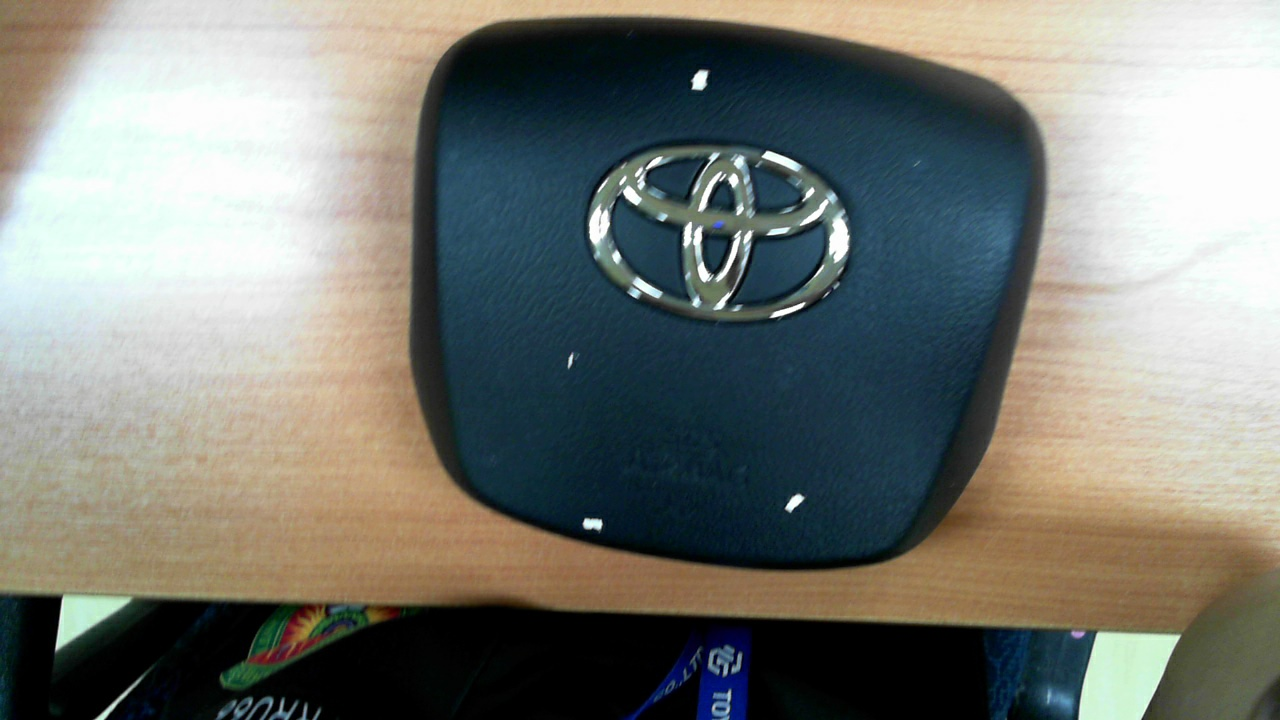Airbag: (411, 17, 1044, 573)
Mark: (784, 493, 805, 514), (691, 69, 710, 91), (583, 517, 603, 531), (567, 352, 580, 369)
